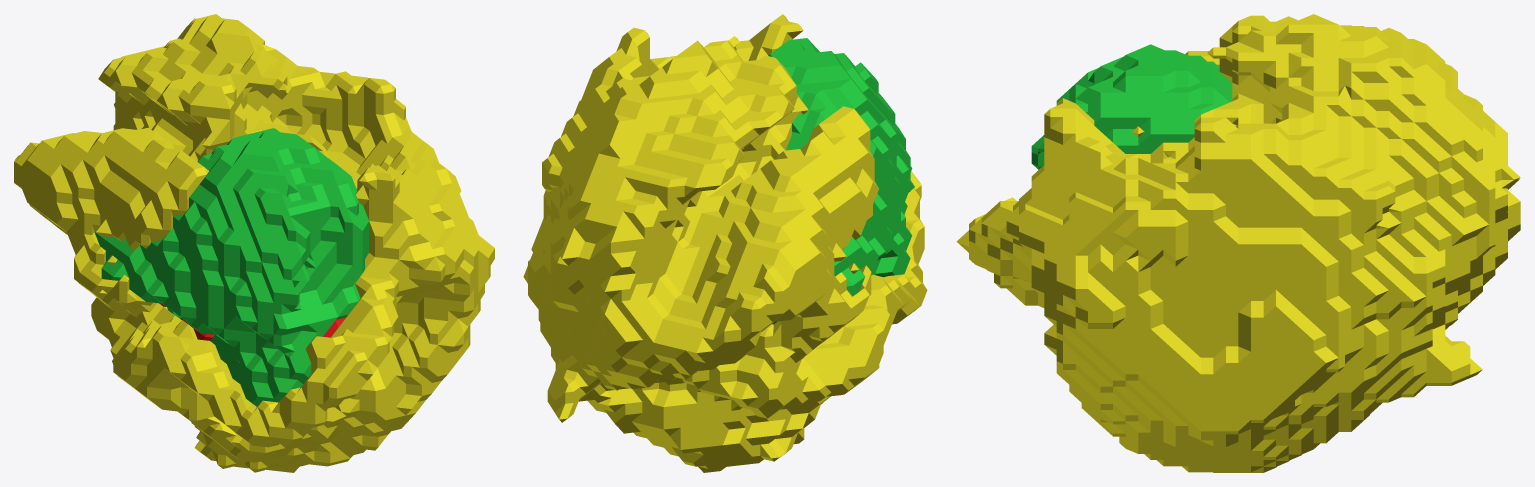
File: tumor_mesh.obj
3 renders of one model, left to right at view 1: azimuth 30°, elevation 25°; view 2: azimuth 150°, elevation 25°; view 3: azimuth 270°, elevation 25°, orthographic. The views are drawn at different scales.
Parts seen in each view (by area): view 1: edema, enhancing; view 2: edema, enhancing; view 3: edema, enhancing.
Boxes of the visible parts, box(x1,y1,x2,y2) form: edema: box(14, 14, 494, 472); enhancing: box(94, 128, 368, 406); edema: box(523, 14, 927, 472); enhancing: box(768, 38, 914, 324); edema: box(956, 14, 1520, 472); enhancing: box(1031, 44, 1232, 169).
Size of the model in its own units: 30 by 39 by 45.
